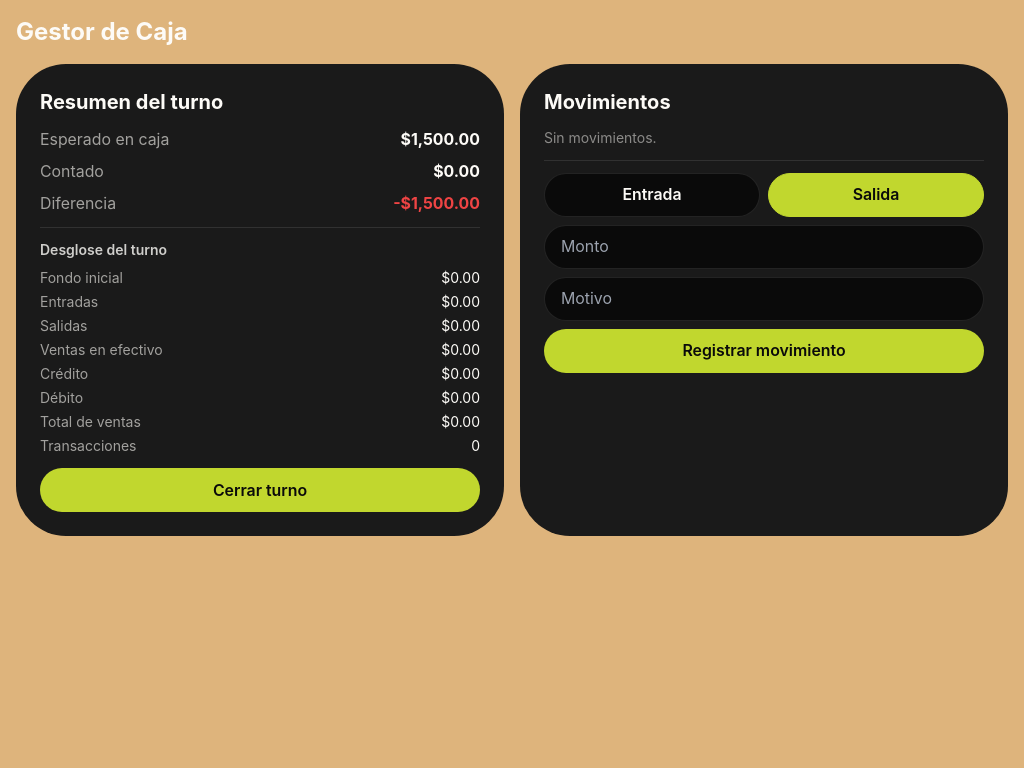
it: F10.4 — criterio 3: si el cierre falla, el modal no se abre › no muestra el diálogo cuando el cierre devuelve error
Check: the heading "Resumen del turno" is shown, box x1=40 y1=90 x2=223 y2=114
Click the button "Cerrar turno" at (260, 490), box x1=40 y1=468 x2=480 y2=512
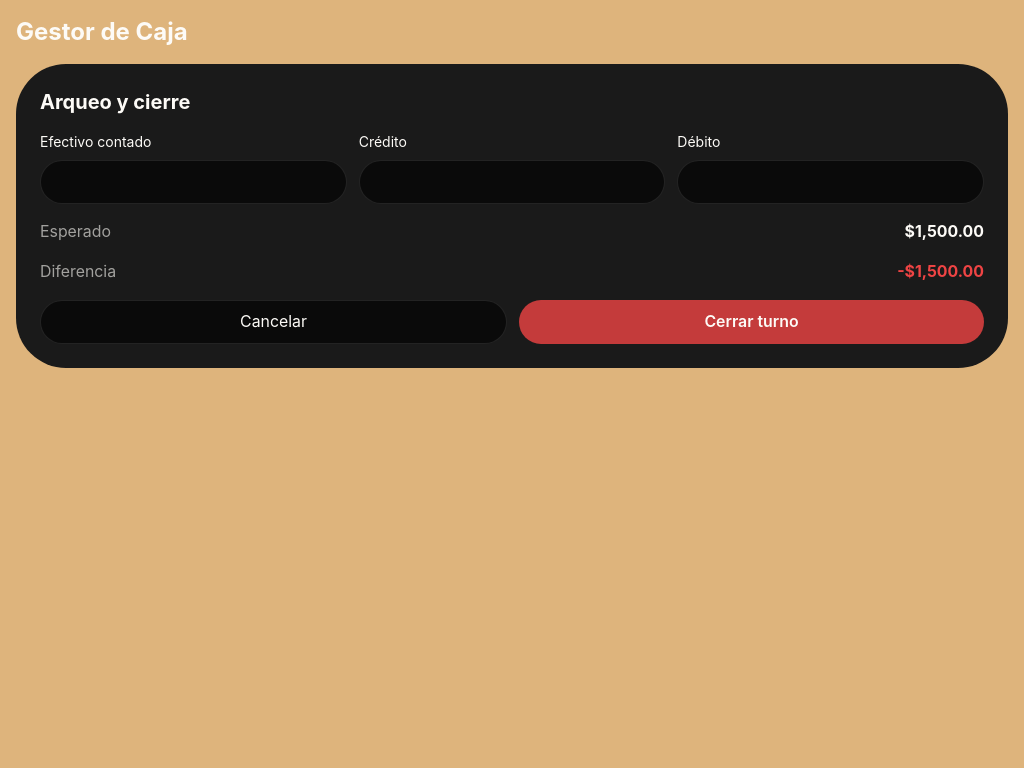
Check: the heading "Arqueo y cierre" is shown, box x1=40 y1=90 x2=190 y2=114
Click the button "Cerrar turno" at (752, 322), box x1=519 y1=300 x2=984 y2=344
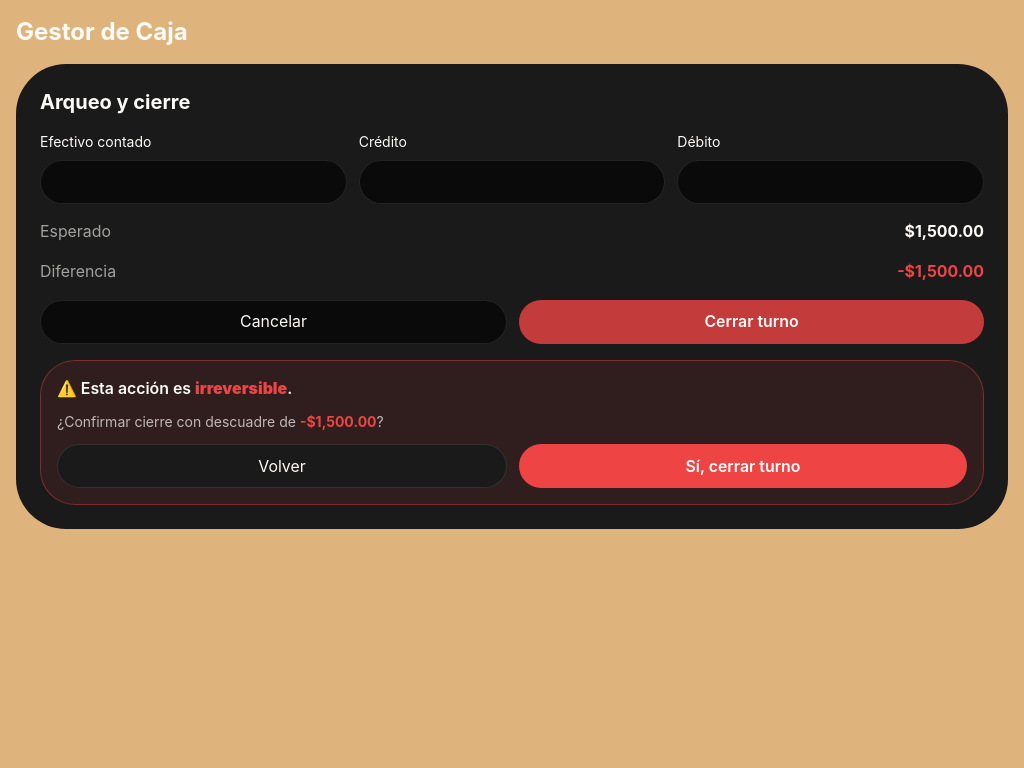
Click the button "Sí, cerrar turno" at (743, 466), box x1=519 y1=444 x2=967 y2=488
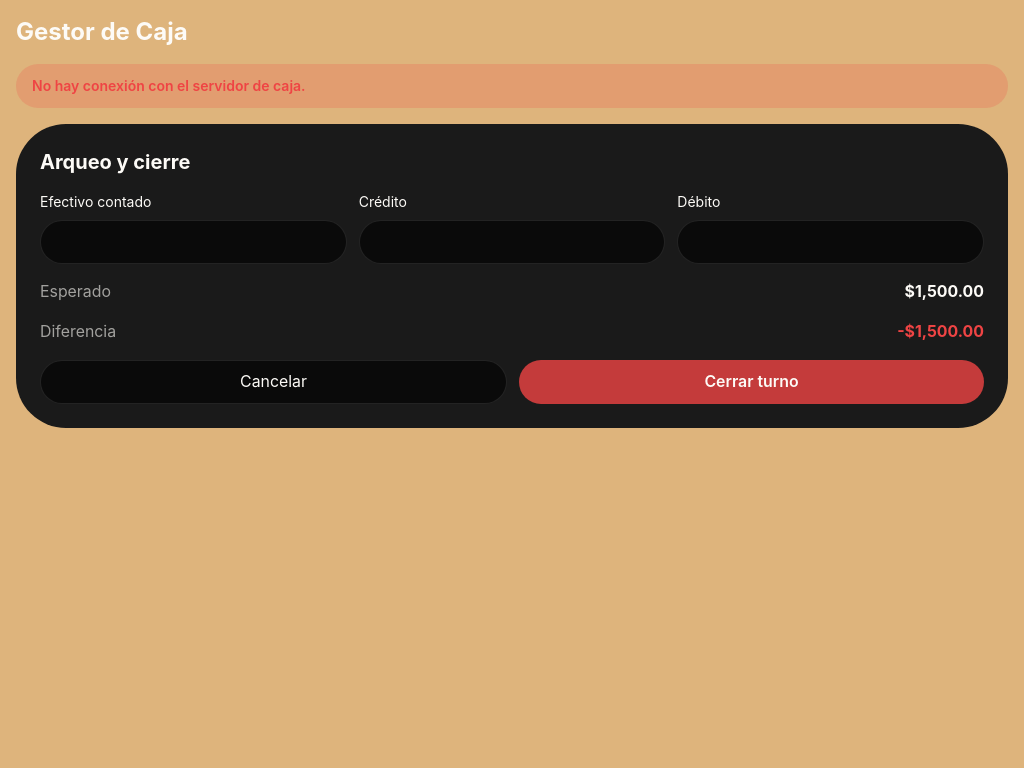
Check: the message "No hay conexión con el servidor de caja." is shown, box x1=16 y1=64 x2=1008 y2=108
